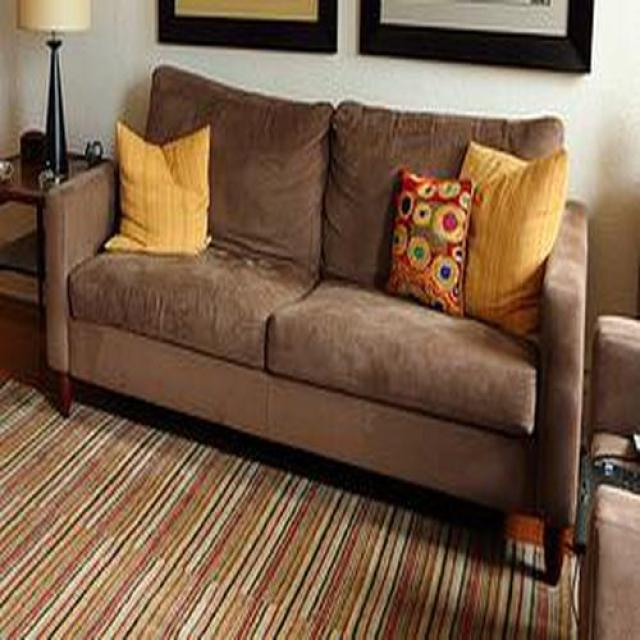sofa: (0, 65, 637, 570)
